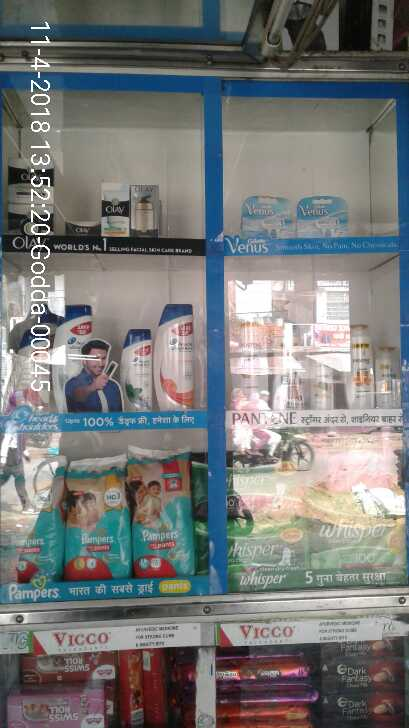venus: (241, 194, 293, 241), (297, 195, 349, 238)
